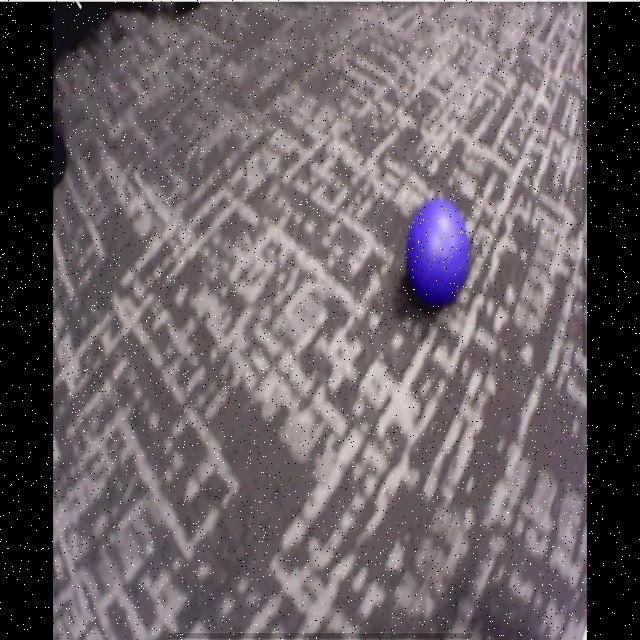ball: (407, 199, 469, 303)
